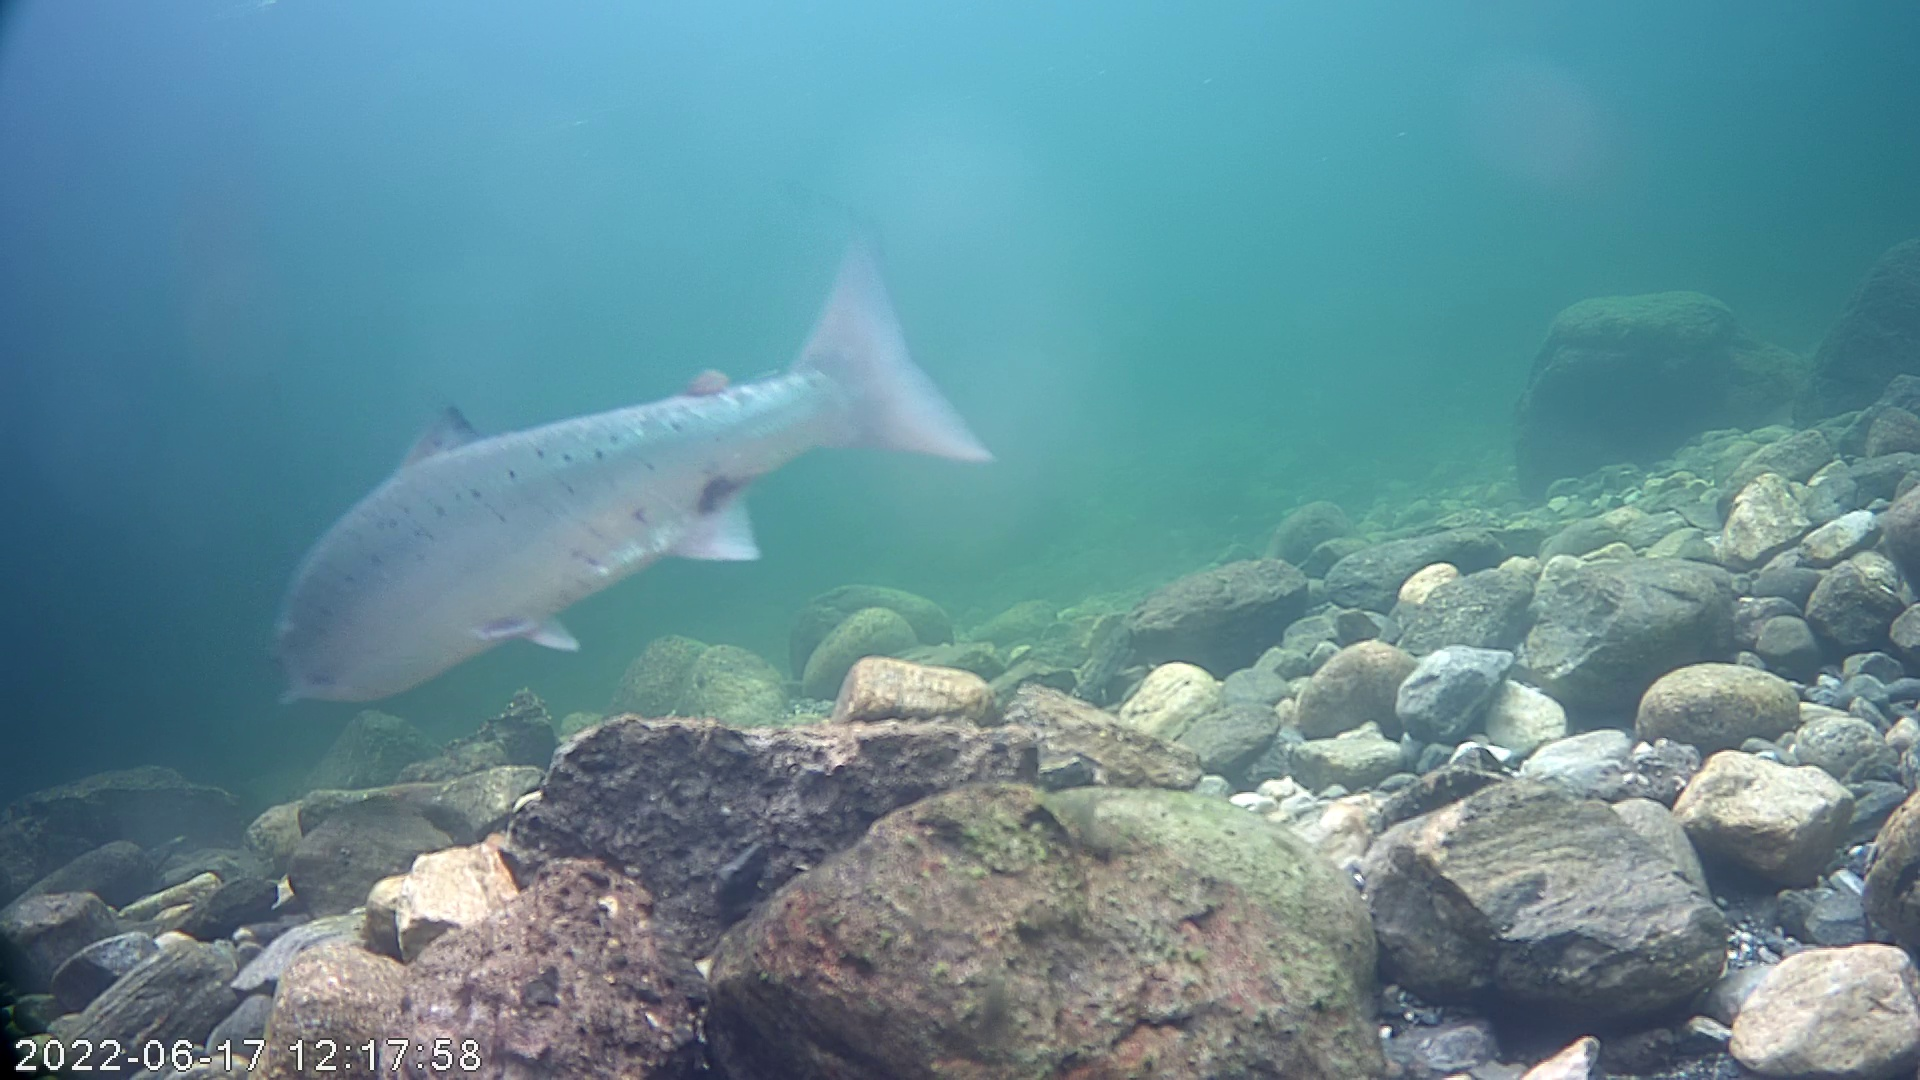salmon: (260, 225, 1004, 705)
